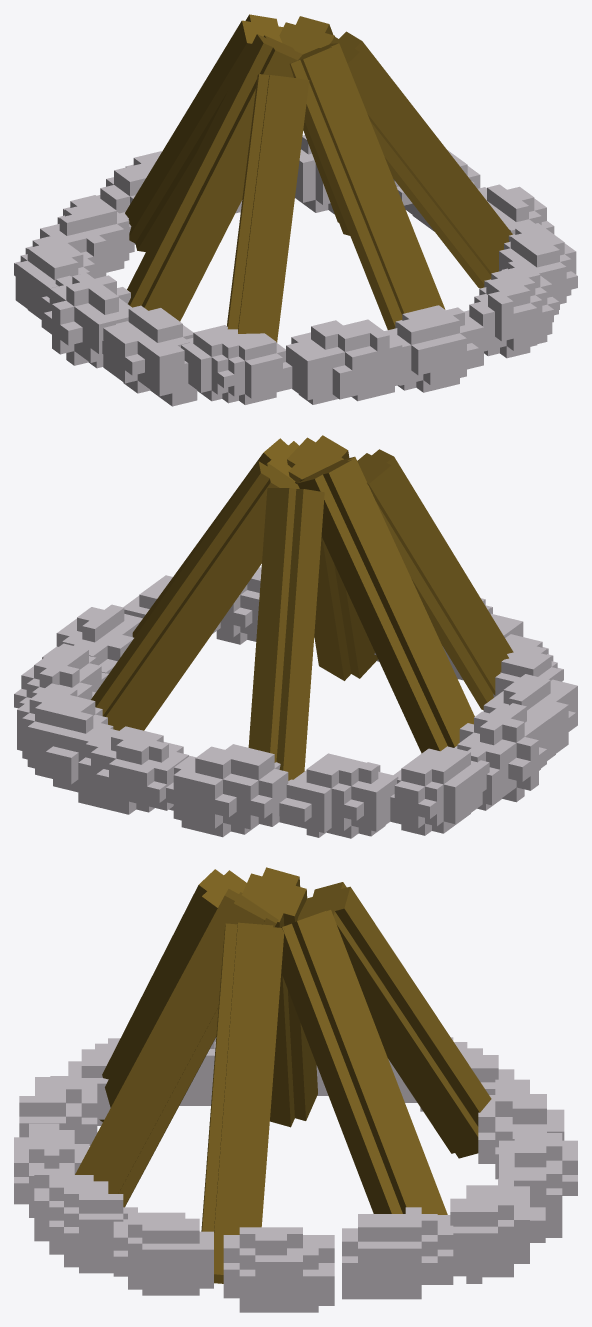
File: Campfire.fbx
The picture shows the model from 3 angles, top to bottom: view 1: azimuth 30°, elevation 25°; view 2: azimuth 150°, elevation 25°; view 3: azimuth 270°, elevation 25°; orthographic projection. The views are drawn at different scales.
Parts seen in each view (by area): view 1: Campfire; view 2: Campfire; view 3: Campfire.
Part boxes in pixels (x1,y1,x2,y2): Campfire: [14, 14, 577, 406]; Campfire: [14, 435, 577, 838]; Campfire: [14, 867, 577, 1312].
Size of the model in its own units: 0.9659 by 0.9219 by 0.5674.
